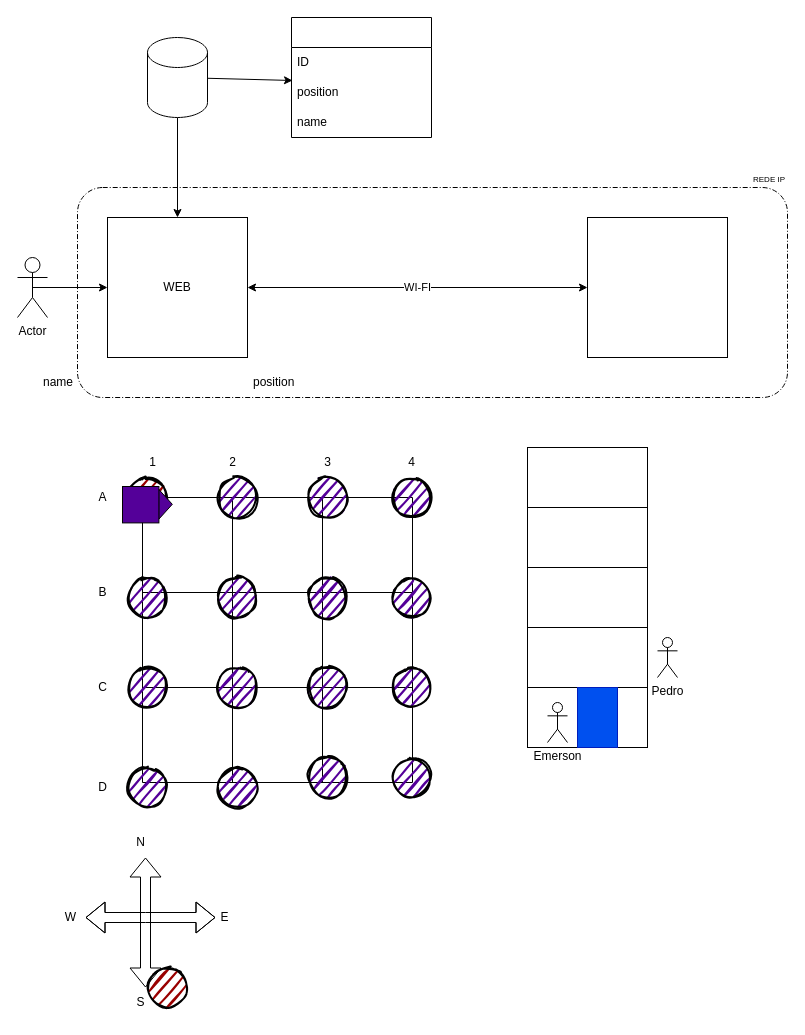
This 805x1035 diagram has some shape labels left out. The shapes that lost their labels are listed below. From the top down, each one's box as (x1, y1, x2, y2) in pixels, then its label:
(146, 36, 208, 118): Relação inventário
(290, 16, 432, 138): item
(586, 216, 728, 358): FW
